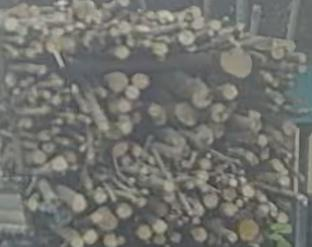large: (221, 47, 252, 78)
medium: (173, 103, 194, 127), (96, 208, 115, 231), (108, 73, 126, 92), (239, 220, 256, 239), (132, 72, 149, 89), (192, 89, 208, 107), (177, 30, 193, 45), (71, 195, 84, 213), (211, 106, 226, 121), (135, 224, 149, 240), (117, 204, 131, 219), (124, 87, 139, 101), (190, 229, 205, 243), (113, 99, 129, 112), (223, 85, 237, 99), (51, 157, 65, 171), (203, 193, 216, 207), (152, 220, 166, 233), (83, 230, 96, 244), (115, 45, 129, 58), (222, 189, 234, 202), (147, 104, 159, 117), (104, 236, 116, 246), (272, 46, 282, 58), (33, 152, 43, 164)
small: (27, 200, 39, 212), (224, 205, 235, 217), (226, 233, 237, 243), (170, 232, 180, 243), (257, 135, 267, 145), (164, 182, 173, 193), (122, 123, 131, 134), (243, 187, 253, 196), (272, 160, 281, 170), (200, 160, 209, 170), (164, 192, 173, 202), (277, 214, 286, 224), (155, 236, 164, 245), (198, 172, 207, 181), (132, 147, 141, 156), (96, 193, 104, 202), (43, 143, 52, 151), (298, 55, 306, 63), (299, 65, 307, 73), (228, 178, 236, 186), (196, 208, 203, 217), (68, 152, 75, 161), (132, 113, 139, 121), (52, 96, 59, 104), (117, 236, 124, 243), (235, 200, 242, 207), (287, 44, 294, 51), (184, 210, 191, 217), (136, 199, 143, 205), (69, 164, 76, 170), (85, 182, 91, 189), (181, 216, 187, 222), (192, 217, 197, 224), (175, 221, 182, 226)
